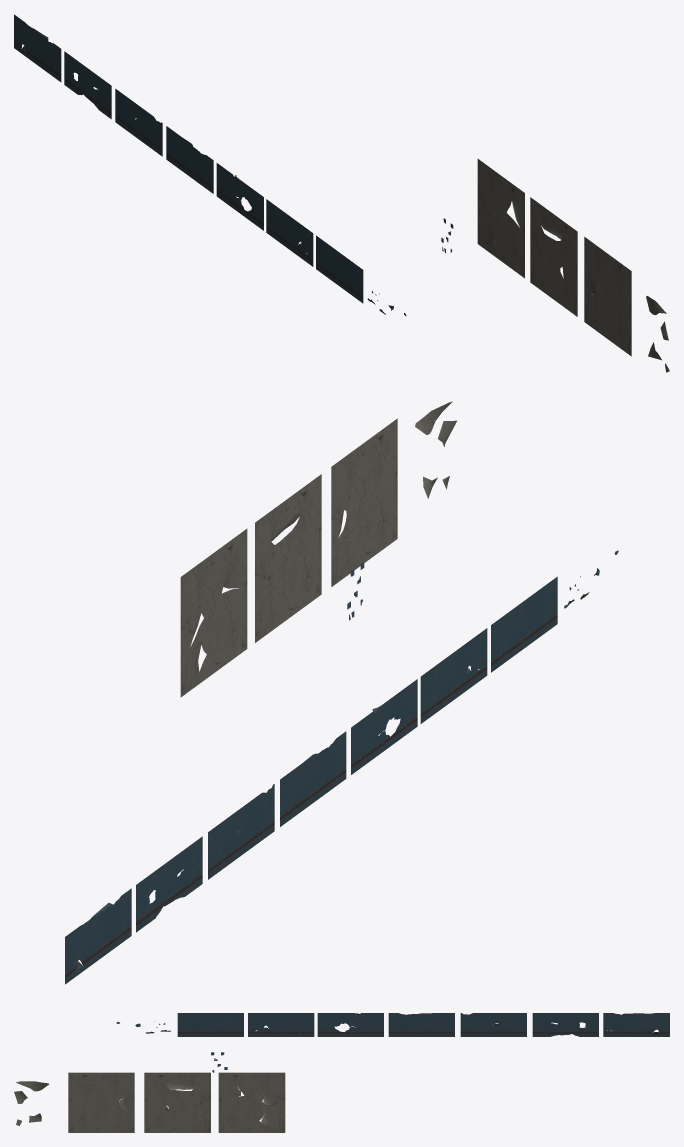
Rendered from Walls.fbx.
The picture shows the model from 3 angles, top to bottom: view 1: azimuth 30°, elevation 25°; view 2: azimuth 150°, elevation 25°; view 3: azimuth 270°, elevation 25°; orthographic projection. The views are drawn at different scales.
Visible parts, largest first — view 1: Plane.024, Plane.026, Plane.019, Plane.006, Plane.001, Plane, Plane.004, Plane.003, Plane.002, Plane.005; view 2: Plane.026, Plane.024, Plane.019, Plane, Plane.001, Plane.006, Plane.004, Plane.003, Plane.002, Plane.005; view 3: Plane.026, Plane.024, Plane.019, Plane.001, Plane, Plane.004, Plane.006, Plane.003, Plane.005, Plane.002, Plane.030.
Boxes of the visible parts, x1,y1,x2,y2 form: Plane.024: (584,237,631,356); Plane.026: (477,159,524,278); Plane.019: (530,197,577,316); Plane.006: (14,14,61,82); Plane.001: (316,235,363,303); Plane: (266,199,313,266); Plane.004: (115,88,162,156); Plane.003: (166,126,213,193); Plane.002: (216,163,263,230); Plane.005: (64,51,111,119); Plane.026: (180,528,247,697); Plane.024: (331,418,397,586); Plane.019: (255,474,321,642); Plane: (420,628,487,723); Plane.001: (491,576,557,672); Plane.006: (65,888,131,984); Plane.004: (208,784,274,879); Plane.003: (280,731,346,826); Plane.002: (351,679,417,774); Plane.005: (136,836,202,932); Plane.026: (218,1072,285,1132); Plane.024: (68,1072,134,1132); Plane.019: (144,1072,210,1132); Plane.001: (177,1013,243,1036); Plane: (248,1013,314,1036); Plane.004: (460,1013,526,1036); Plane.006: (603,1013,669,1036); Plane.003: (388,1013,454,1036); Plane.005: (532,1013,598,1036); Plane.002: (317,1013,383,1036); Plane.030: (16,1081,49,1091).
Bounding box in the file's own units: 4.86 × 2 × 19.72.
